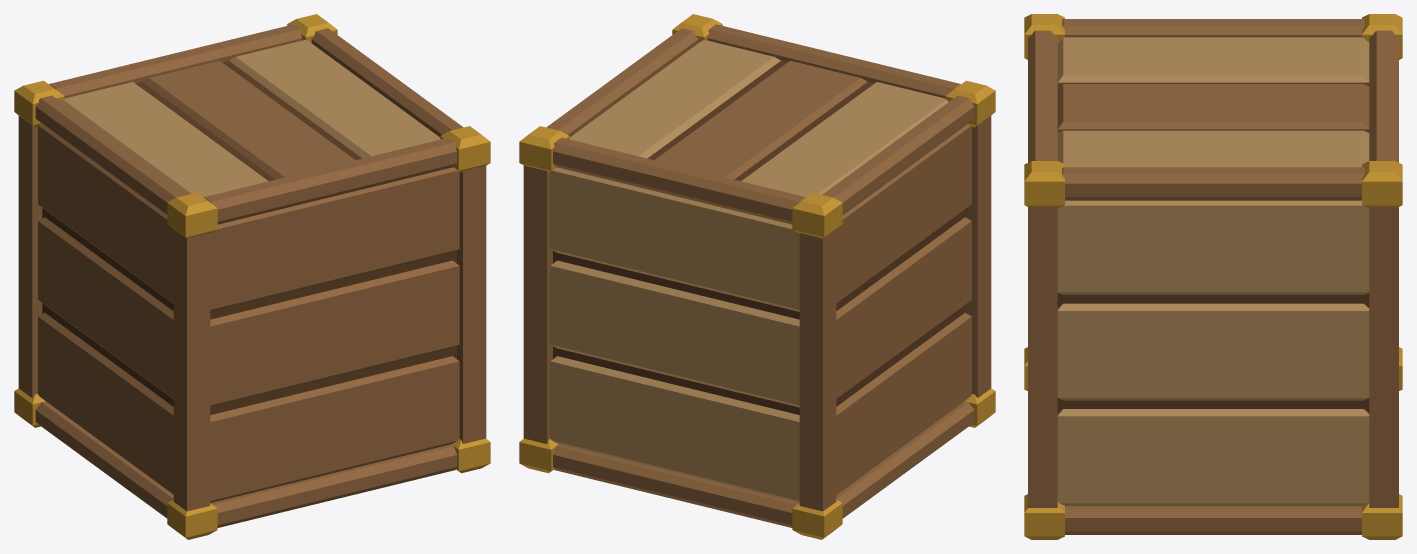
File: Crate_25.glb
3 views of the same model, side by side, from view 1: azimuth 30°, elevation 25°; view 2: azimuth 150°, elevation 25°; view 3: azimuth 270°, elevation 25° (orthographic). The views are drawn at different scales.
Visible parts, largest first — view 1: Crate_25; view 2: Crate_25; view 3: Crate_25.
Part boxes in pixels (left/top/right/bottom): Crate_25: left=14, top=14, right=490, bottom=539; Crate_25: left=519, top=14, right=995, bottom=539; Crate_25: left=1024, top=14, right=1402, bottom=539.
Size of the model in its own units: 2.1 by 2.2 by 2.05.
